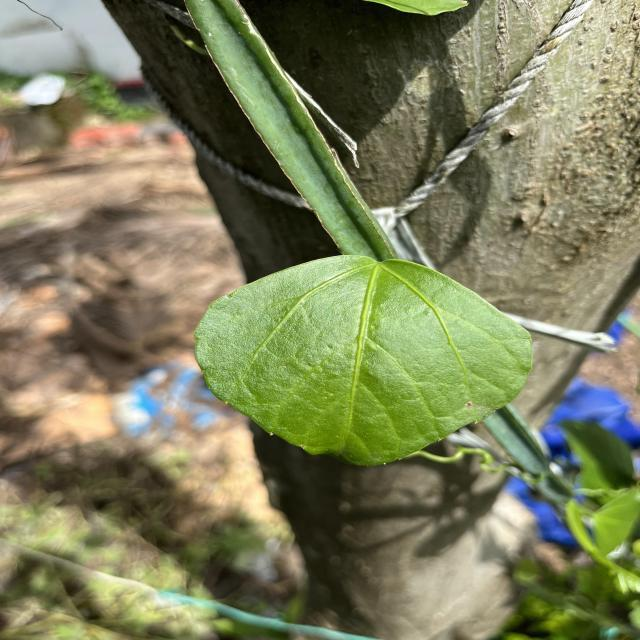Cissus quadrangularis: (190, 251, 538, 469)
